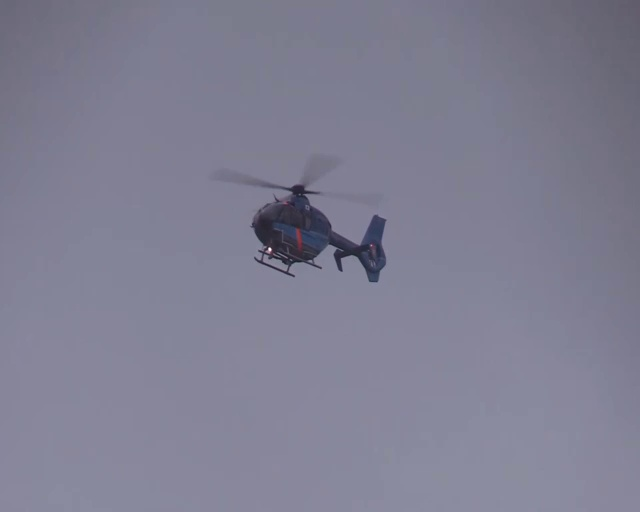HELICOPTER: (207, 153, 388, 280)
